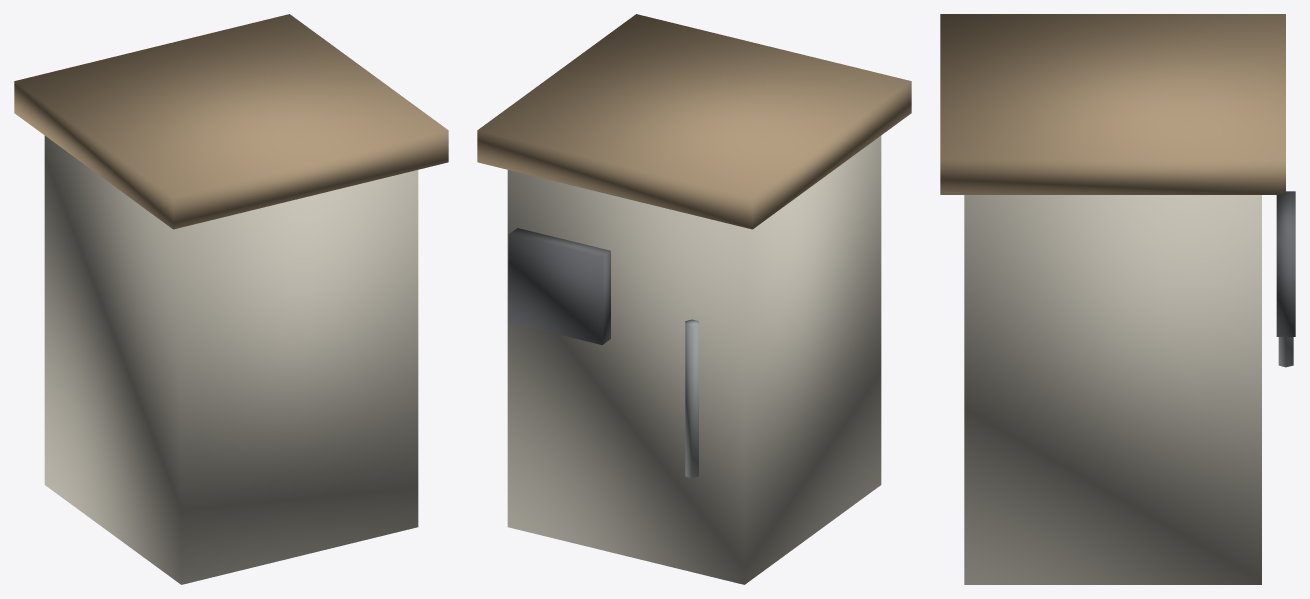
File: museum_display_plinth__service.glb
3 renders of one model, left to right at view 1: azimuth 30°, elevation 25°; view 2: azimuth 150°, elevation 25°; view 3: azimuth 270°, elevation 25°, orthographic. The views are drawn at different scales.
Parts seen in each view (by area): view 1: world; view 2: world; view 3: world.
Part boxes in pixels (bbox=[...]): world: bbox=[14, 14, 448, 584]; world: bbox=[477, 14, 911, 584]; world: bbox=[940, 14, 1295, 584].
Bounding box in the file's own units: 0.72 × 1 × 0.7398.
